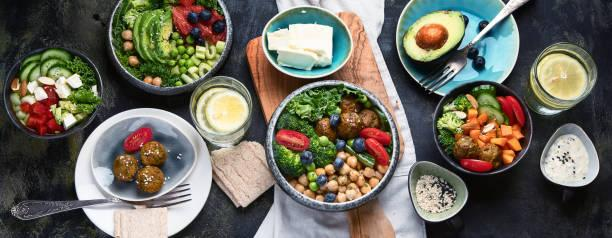Braised Crucian Carp: (264, 79, 398, 213), (75, 106, 210, 236), (105, 0, 229, 96), (394, 0, 516, 97), (432, 80, 531, 179), (3, 45, 103, 139), (261, 4, 353, 80)
